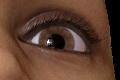eye: (41, 27, 74, 51)
